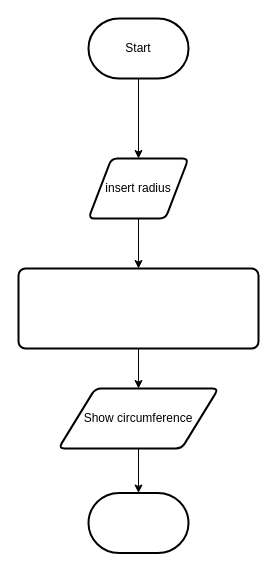
This 276x571 diagram has some shape labels left out. Each missing label, with the centre of its shape:
circumference = tau * radius: pixel 138 308
Stop: pixel 138 523
